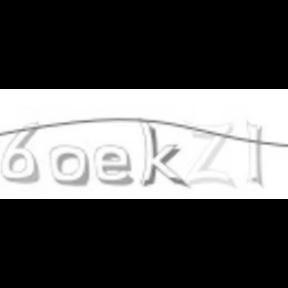6: (0, 119, 42, 183)
I: (244, 116, 266, 190)
Z: (186, 119, 238, 189)
b: (48, 142, 90, 188)
e: (92, 144, 134, 186)
k: (138, 116, 188, 190)
